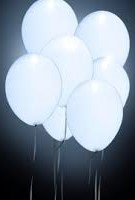Balloon: (5, 55, 62, 126), (67, 80, 123, 152)
